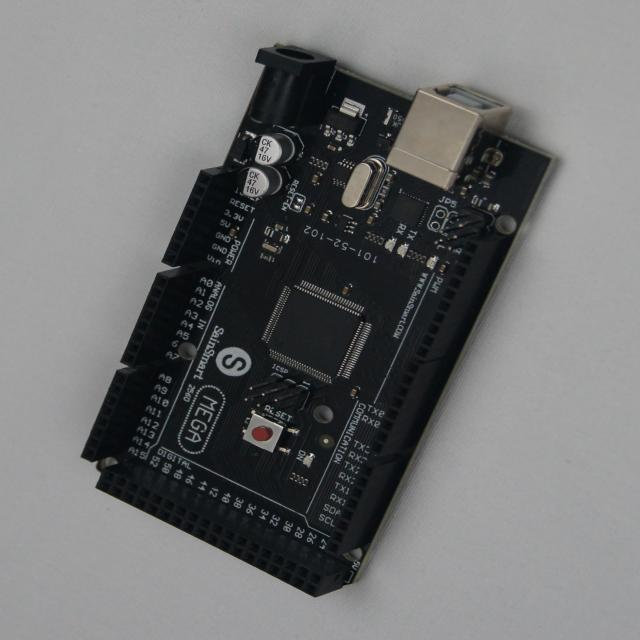Arduino Mega 2560 -Black-: (82, 45, 551, 597)
